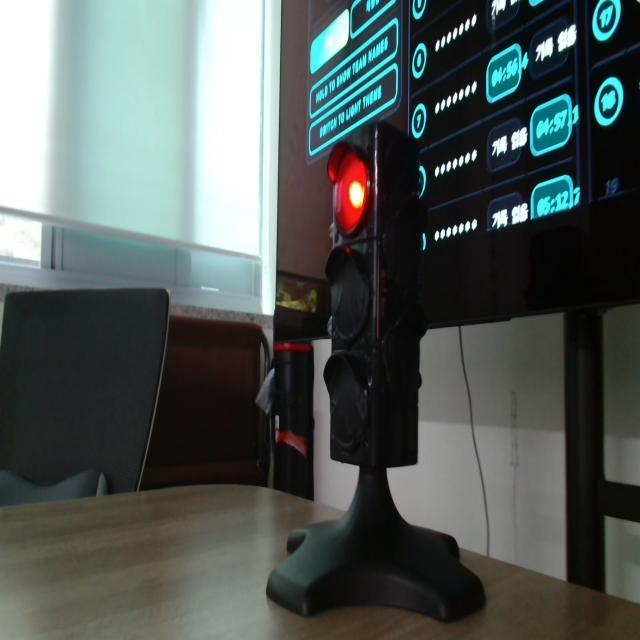red_light: (329, 147, 369, 235)
